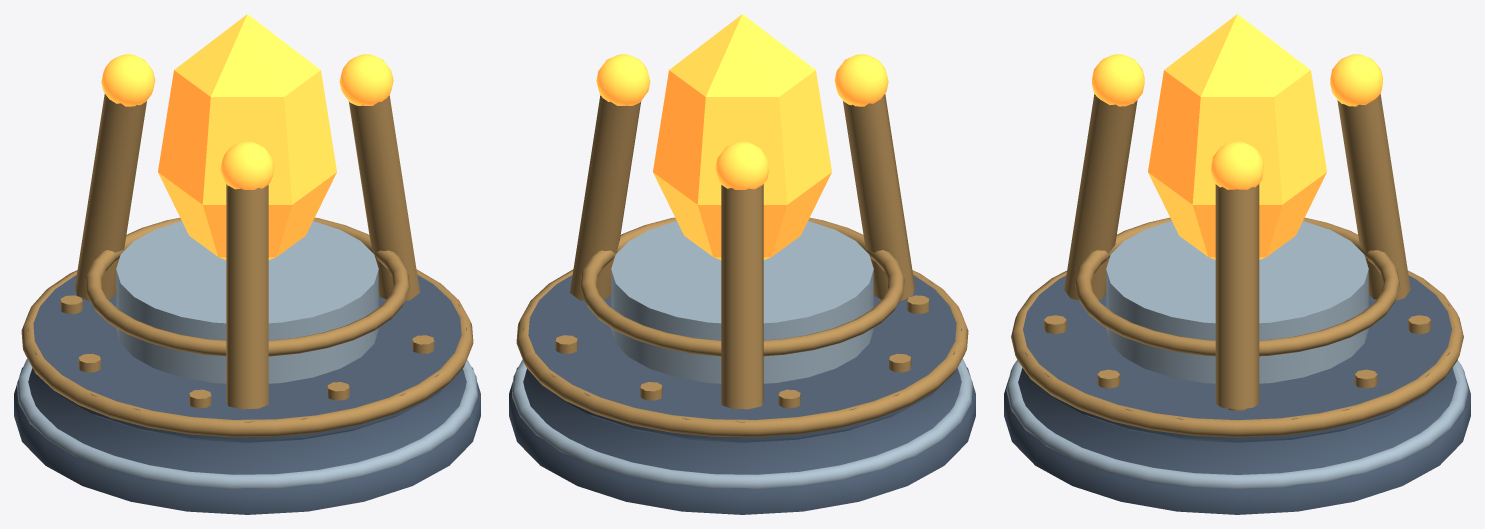
File: moonsteel-convergence-solar-inhibitor-6fecc7ec__18167.glb
3 renders of one model, left to right at view 1: azimuth 30°, elevation 25°; view 2: azimuth 150°, elevation 25°; view 3: azimuth 270°, elevation 25°, orthographic.
Visible parts, largest first — view 1: solar-inhibitor; view 2: solar-inhibitor; view 3: solar-inhibitor.
Part boxes in pixels (left/top/right/bottom): solar-inhibitor: left=14, top=14, right=480, bottom=514; solar-inhibitor: left=509, top=14, right=975, bottom=514; solar-inhibitor: left=1004, top=14, right=1470, bottom=514.
Size of the model in its own units: 2.24 by 2.13 by 2.24.
